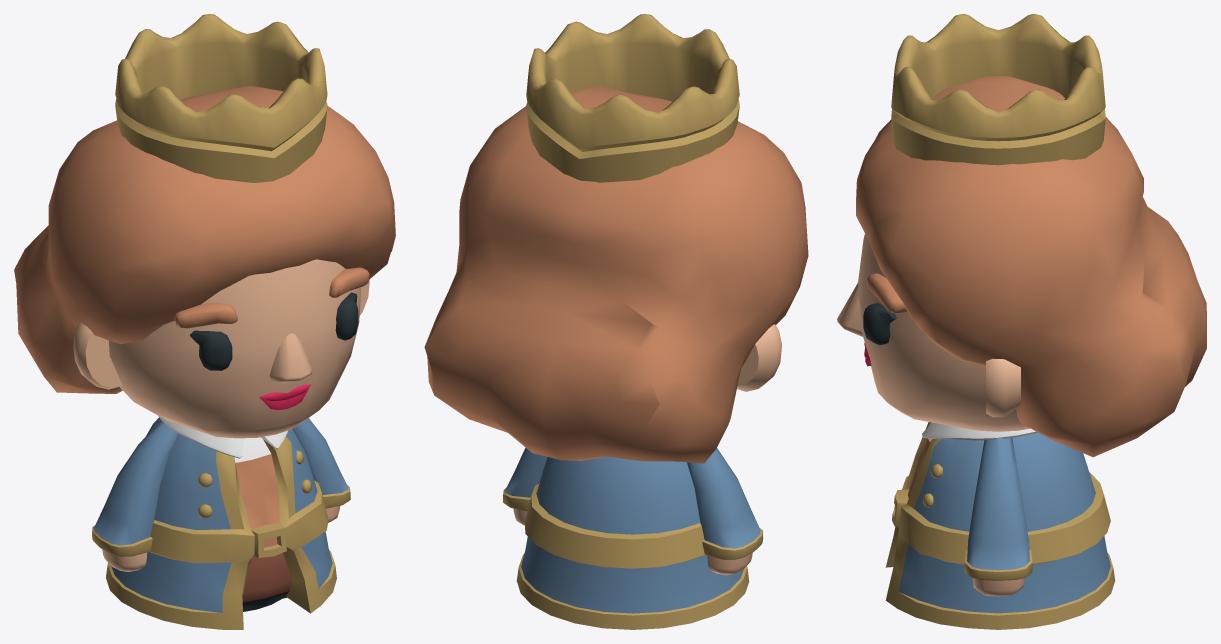
The model's file is empress.gltf.
The picture shows the model from 3 angles, left to right: view 1: azimuth 30°, elevation 25°; view 2: azimuth 150°, elevation 25°; view 3: azimuth 270°, elevation 25°; orthographic projection.
Visible parts, largest first — view 1: character_queenHead, character_queenBody, character_queenCrown, character_queenArmRight, character_queenArmLeft; view 2: character_queenHead, character_queenBody, character_queenCrown, character_queenArmRight, character_queenArmLeft; view 3: character_queenHead, character_queenBody, character_queenCrown, character_queenArmLeft.
Part boxes in pixels (box(x1,y1,x2,y2)): character_queenHead: box(14, 86, 395, 438); character_queenBody: box(106, 415, 336, 629); character_queenCrown: box(115, 14, 327, 182); character_queenArmRight: box(92, 420, 178, 571); character_queenArmLeft: box(292, 418, 350, 522); character_queenHead: box(424, 86, 808, 463); character_queenBody: box(516, 456, 749, 629); character_queenCrown: box(526, 14, 739, 182); character_queenArmRight: box(687, 448, 763, 575); character_queenArmLeft: box(502, 447, 547, 525); character_queenHead: box(837, 76, 1206, 457); character_queenBody: box(885, 422, 1115, 629); character_queenCrown: box(891, 14, 1105, 165); character_queenArmLeft: box(964, 438, 1032, 596).
Bounding box in the file's own units: 1.24 × 2.05 × 1.28.
